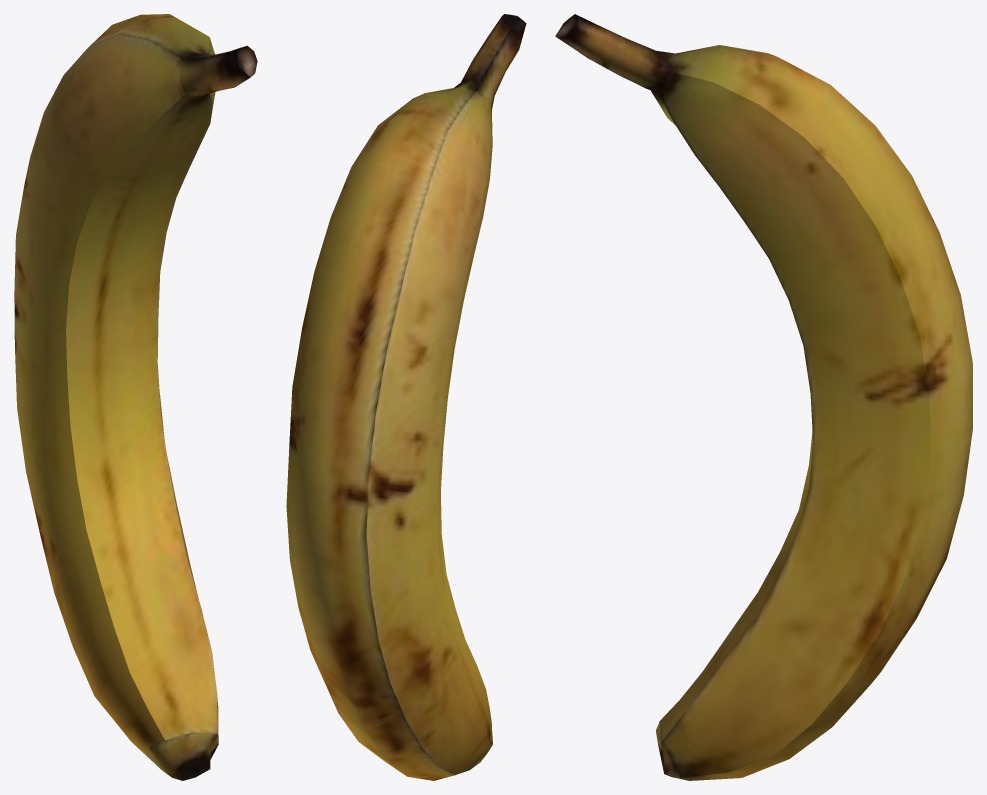
File: banana-peel.glb
3 views of the same model, side by side, from view 1: azimuth 30°, elevation 25°; view 2: azimuth 150°, elevation 25°; view 3: azimuth 270°, elevation 25° (orthographic). The views are drawn at different scales.
Visible parts, largest first — view 1: banana-peel; view 2: banana-peel; view 3: banana-peel.
Boxes of the visible parts, x1,y1,x2,y2 form: banana-peel: [14, 14, 257, 780]; banana-peel: [286, 14, 526, 780]; banana-peel: [555, 14, 972, 780].
Size of the model in its own units: 0.1845 by 1 by 0.4957.
1 material, 1 textured.
